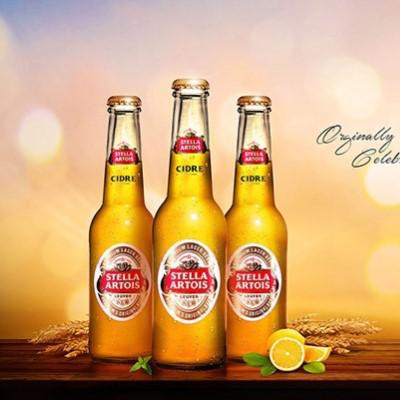beer: (91, 80, 299, 365)
